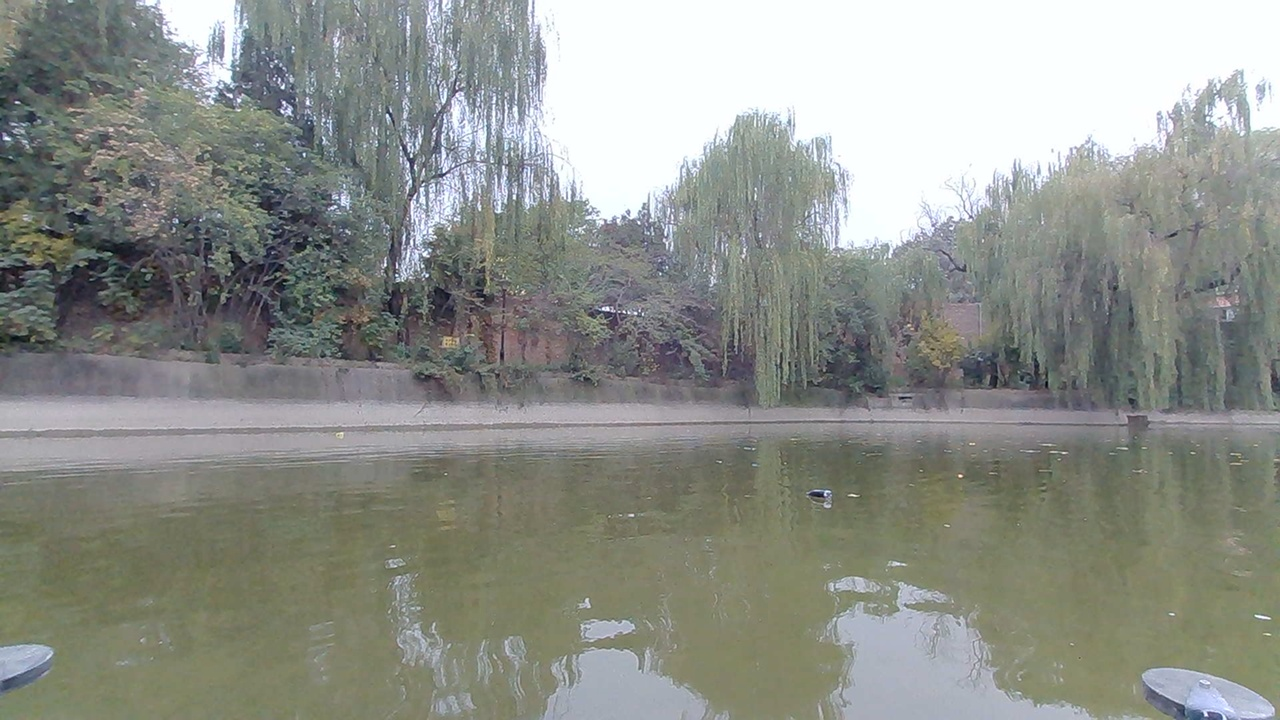bottle: (808, 483, 836, 509)
